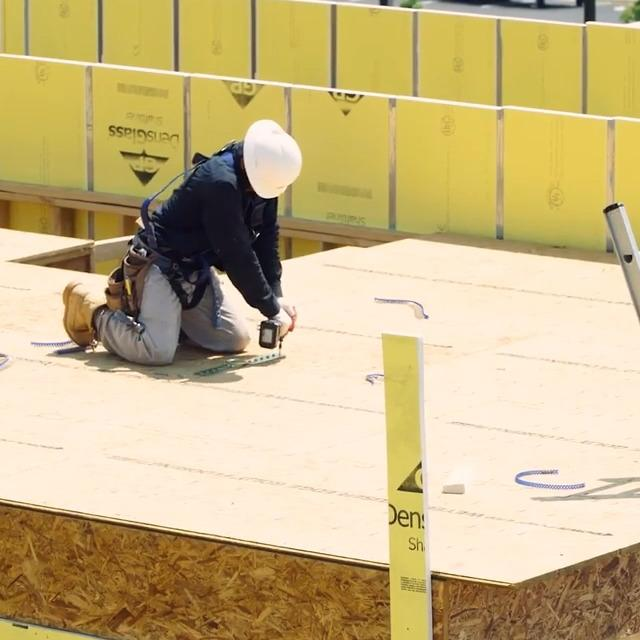Gloves: (275, 311, 291, 340), (278, 295, 296, 317)
Hardhat: (243, 121, 305, 202)
NO-Safety Vest: (165, 153, 247, 269)
Person: (61, 121, 303, 365)
